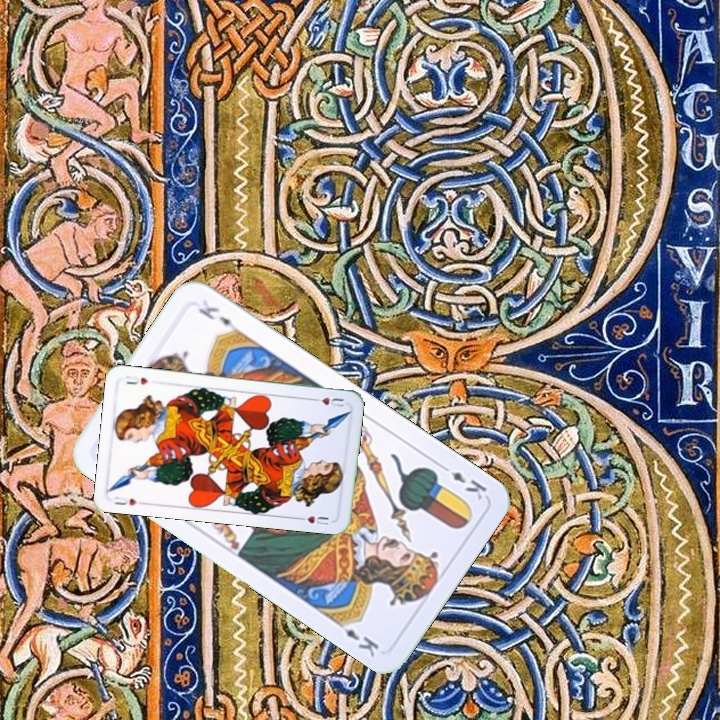EK: (435, 460, 490, 503)
HU: (307, 393, 346, 409), (111, 492, 140, 508)
